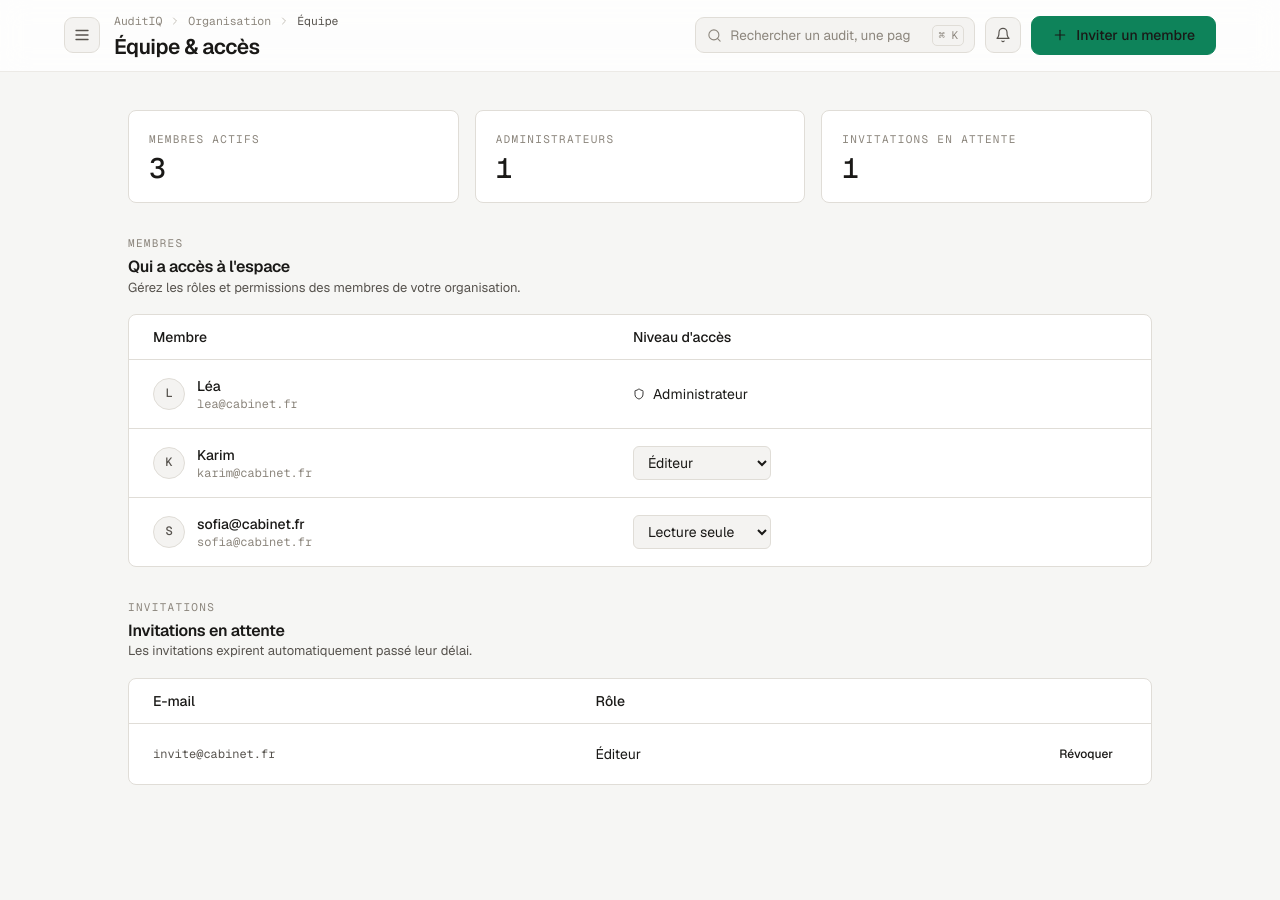
EquipePage — données réelles › affiche le lien à copier quand email_sent est faux
Click the button "Inviter un membre": [1124, 35] box [1031,16,1216,55]
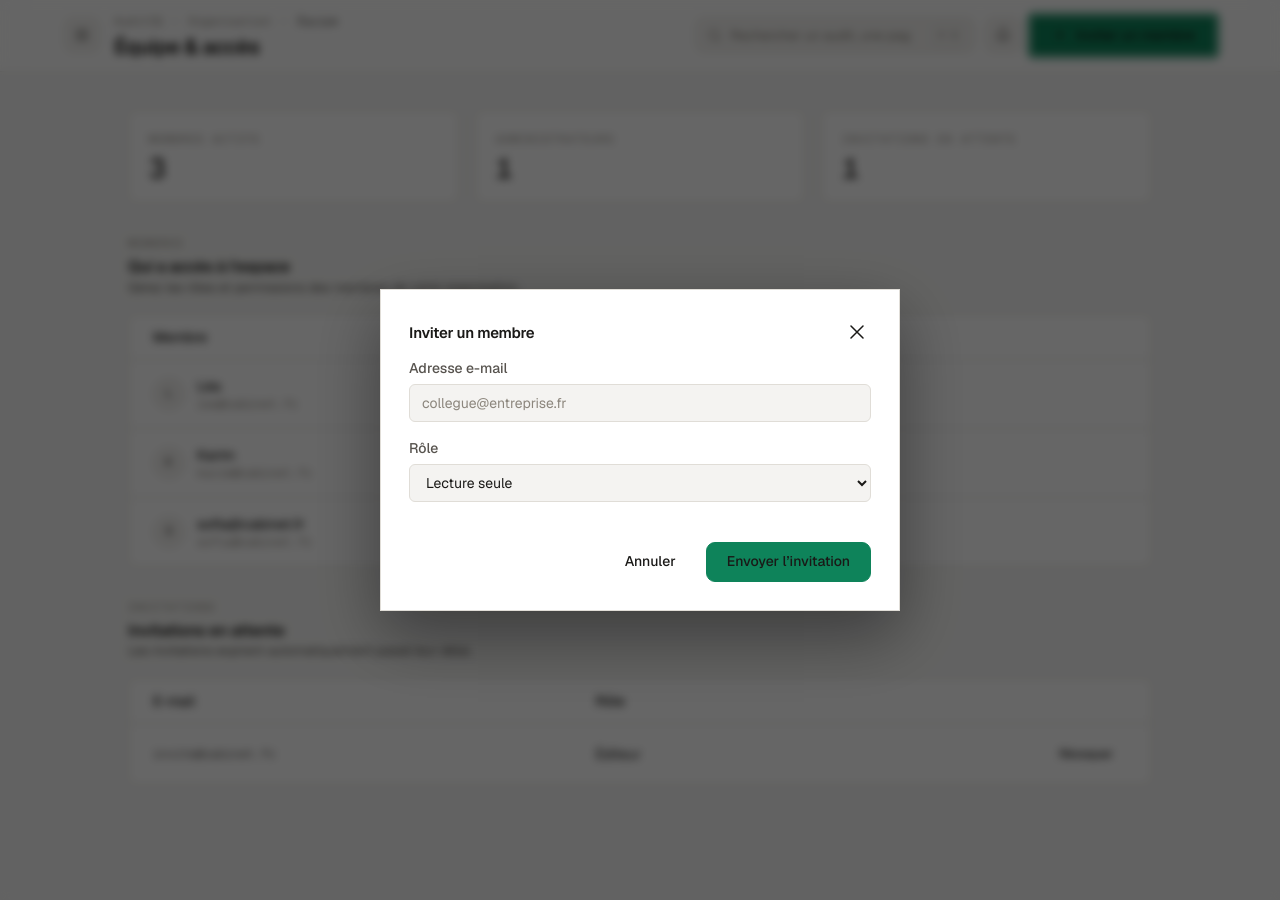
In the field labelled "Adresse e-mail": [640, 403] box [409,384,871,422], type "link@cabinet.fr"
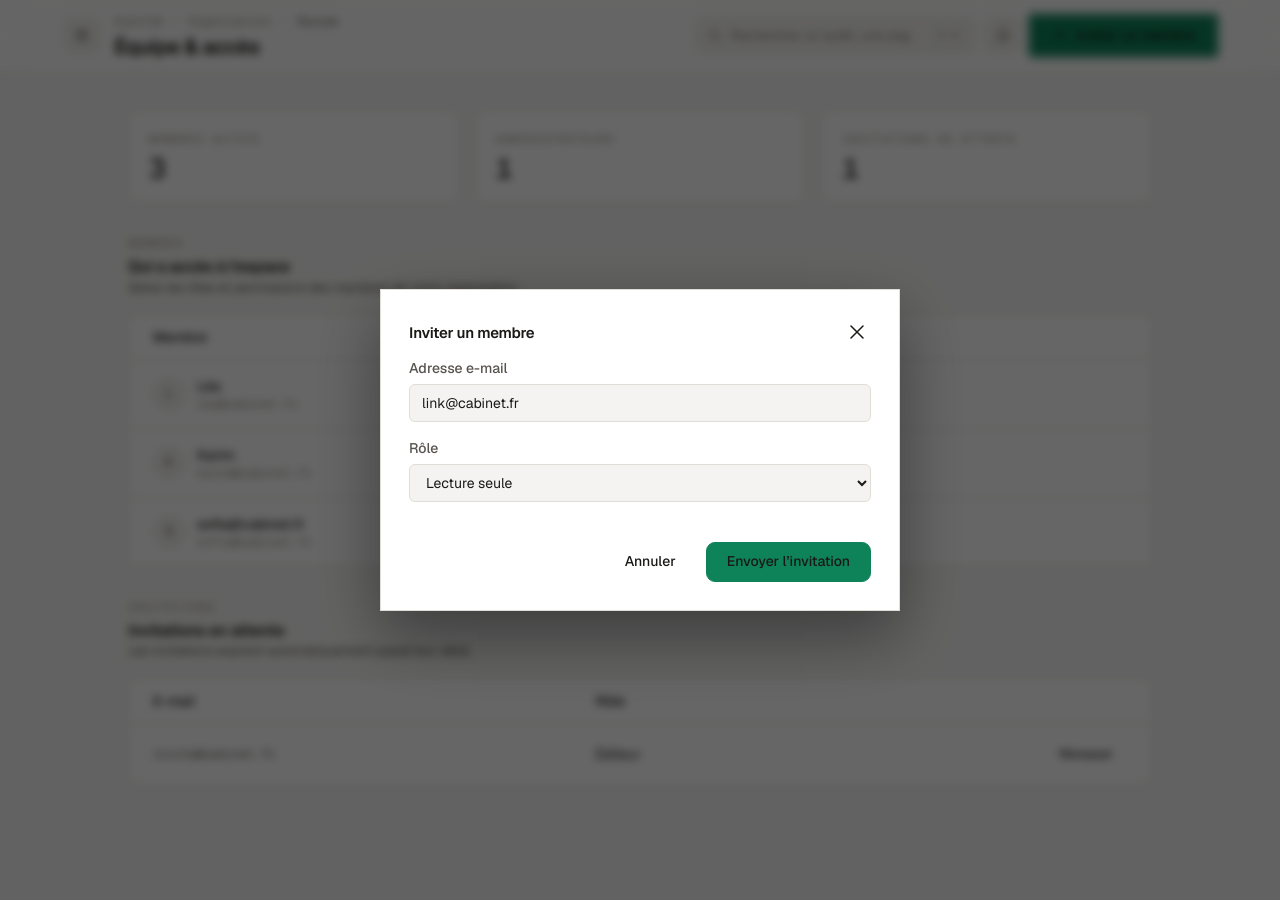
Submit the form "Adresse e-mail Rôle Annuler Envoyer l’invitation", box [409,358,871,582]
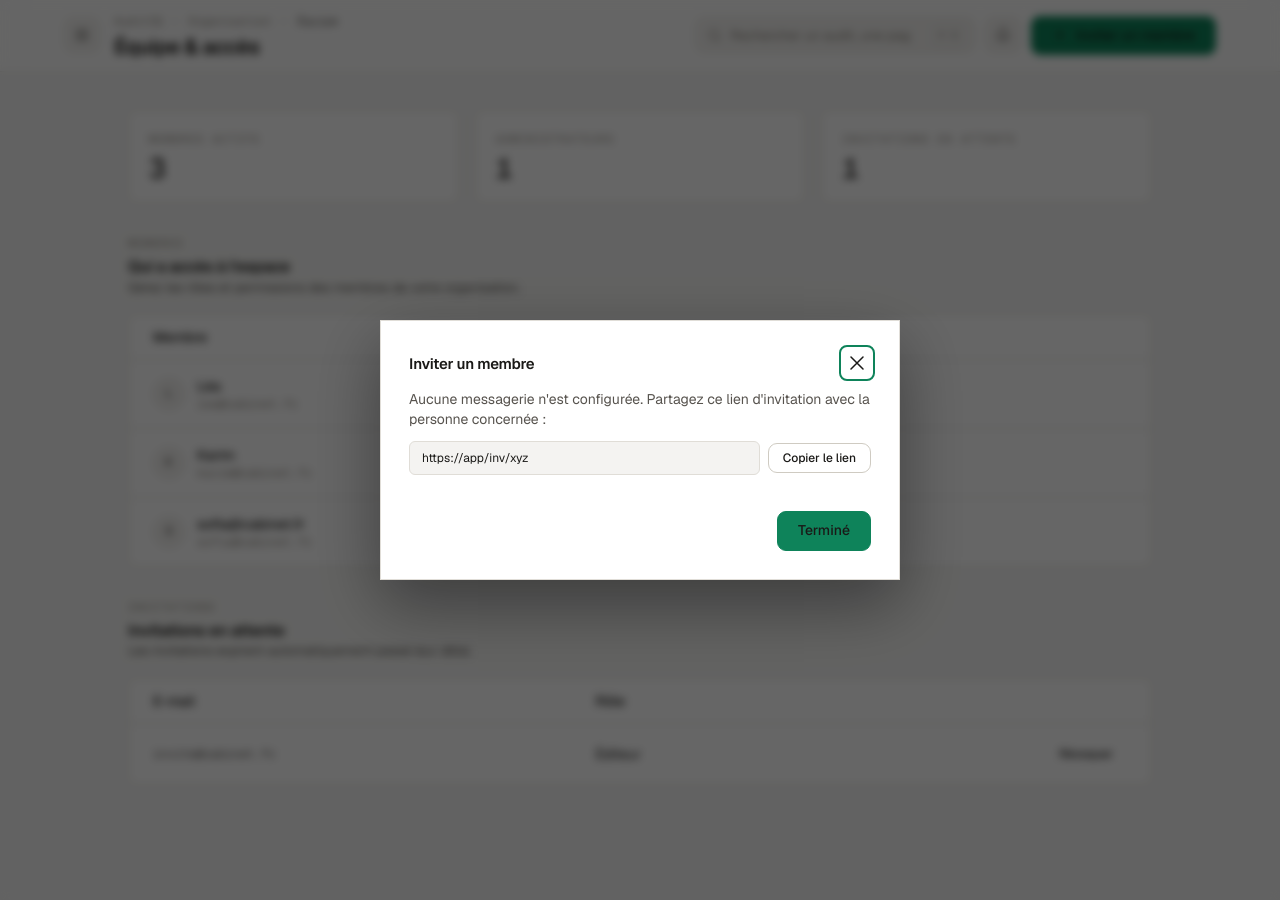
Expected: the field showing "https://app/inv/xyz" is shown, [409,441,760,475]
Expected: the button "Copier le lien" is shown, [768,443,871,473]
